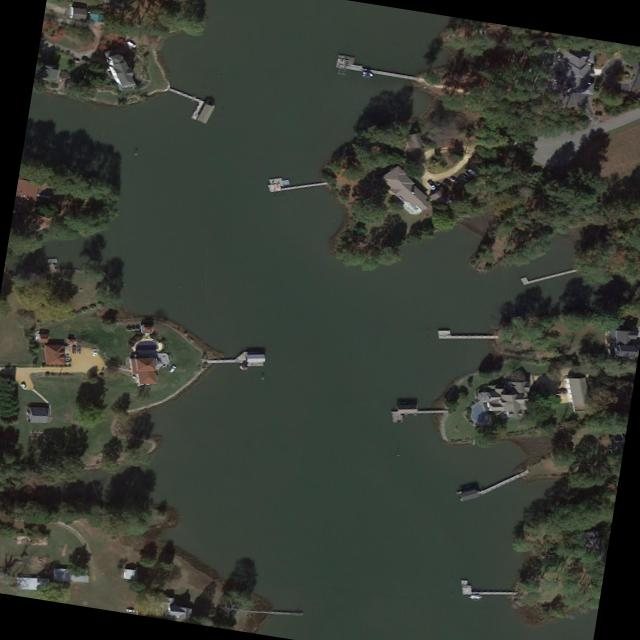ship: (465, 168, 481, 178), (361, 71, 375, 78), (469, 595, 483, 600)
small-vehicle: (124, 39, 137, 49), (427, 180, 437, 191), (19, 382, 28, 391), (168, 366, 178, 374), (443, 180, 453, 188), (449, 177, 459, 184), (125, 608, 136, 613), (92, 349, 98, 357), (72, 346, 77, 354), (76, 348, 81, 355)
